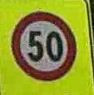limite 50: (10, 9, 76, 81)
